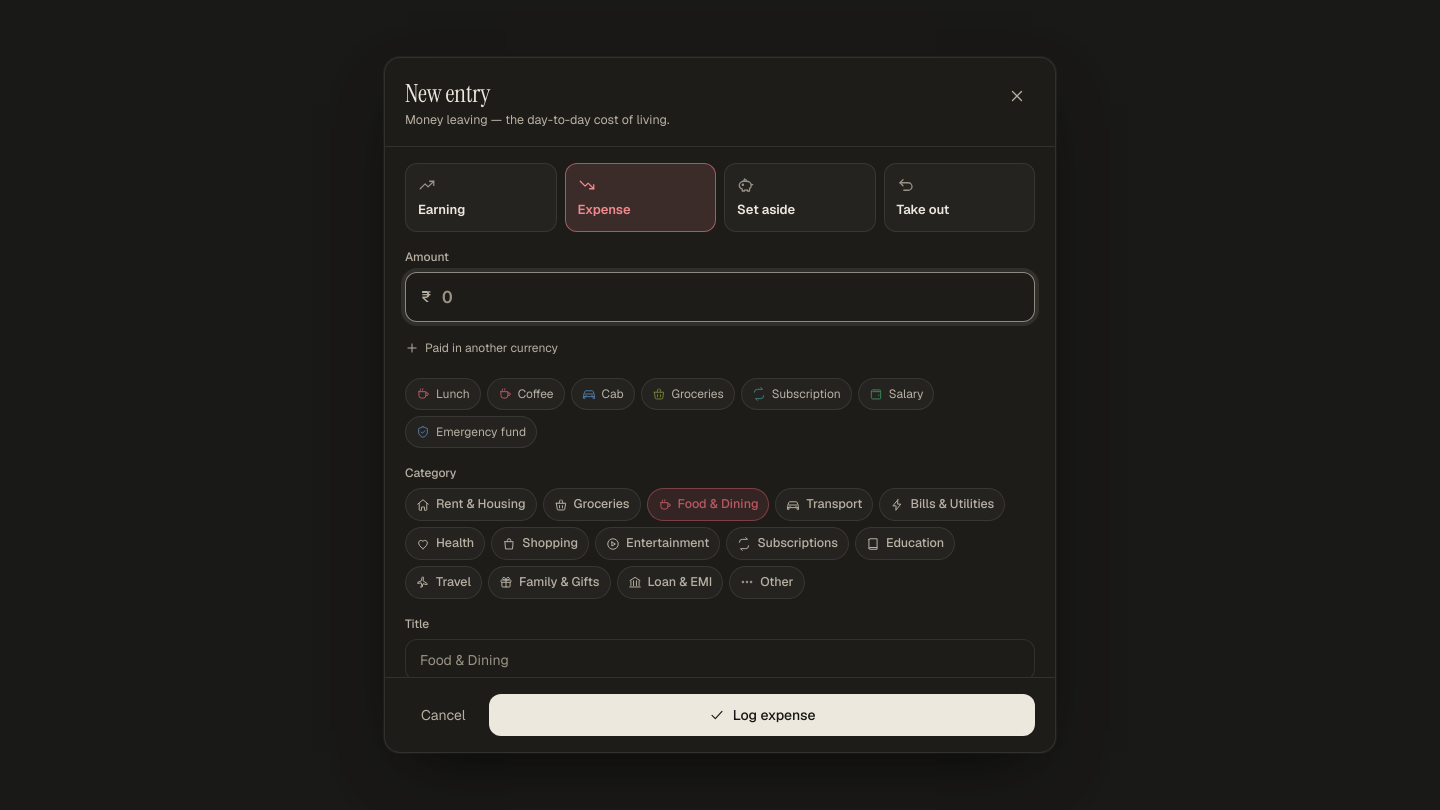
Test: validation › refuses an entry with no amount, and says why
Step 1. Click the button "Log expense" → (762,715), box [489, 694, 1035, 736]
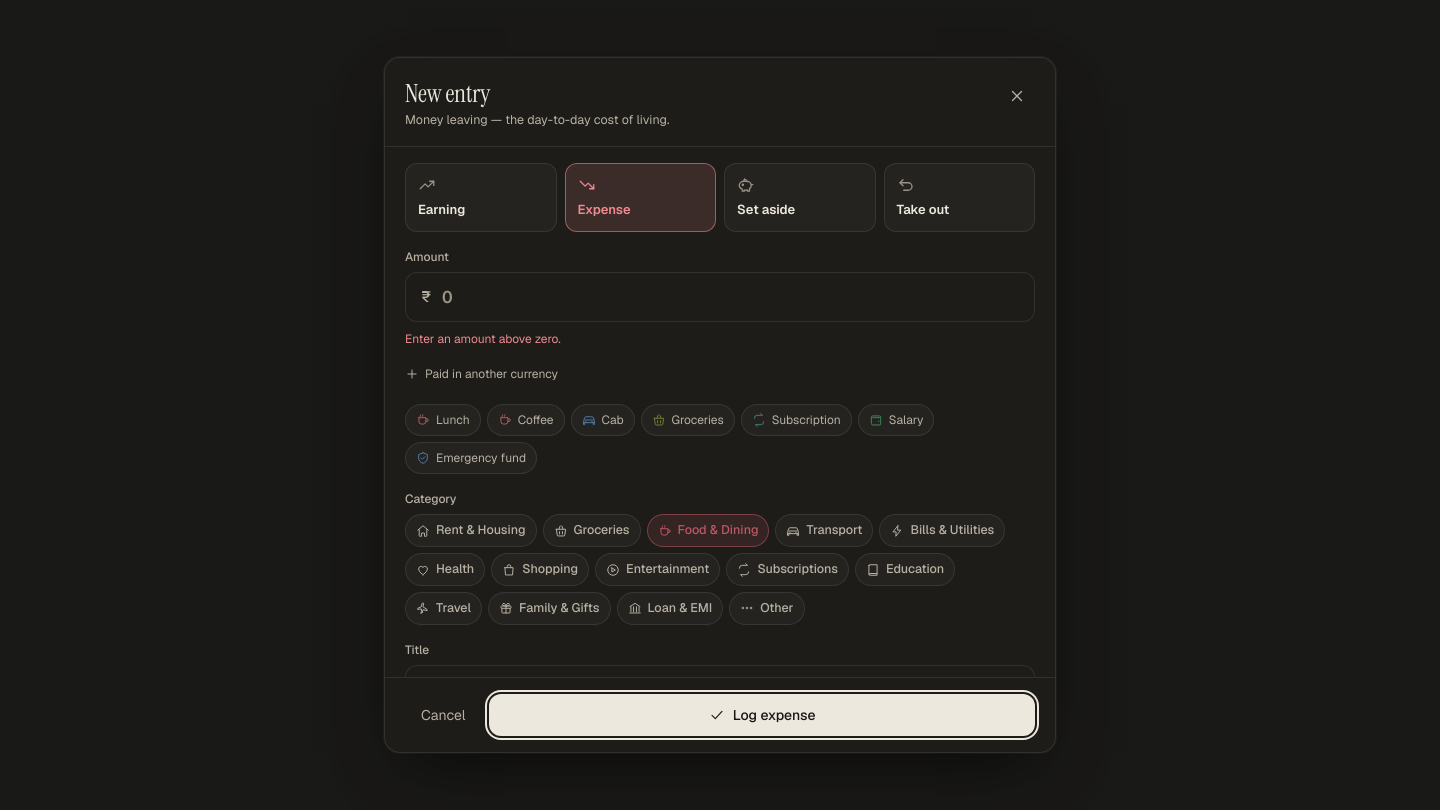
Expected: the text "Enter an amount above zero." is shown, [405, 332, 561, 348]
